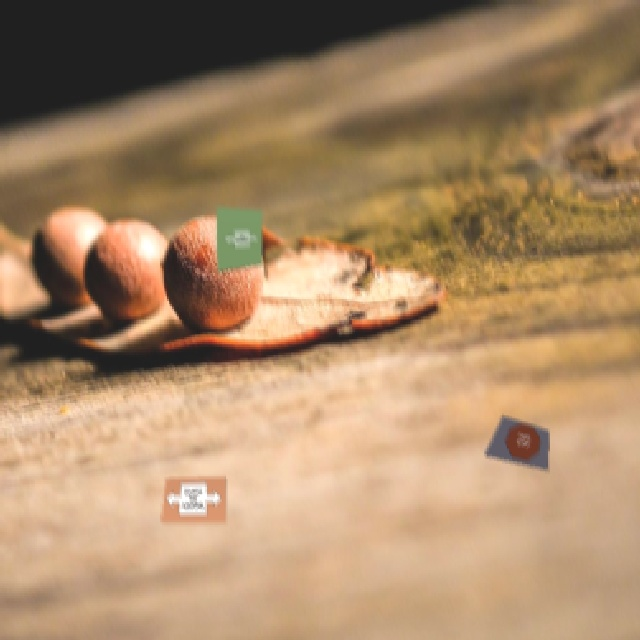DO_NOT_GO_AROUND: (164, 482, 222, 514)
FAKE_STOP: (500, 419, 543, 462)
GO_AROUND: (224, 229, 257, 248)
